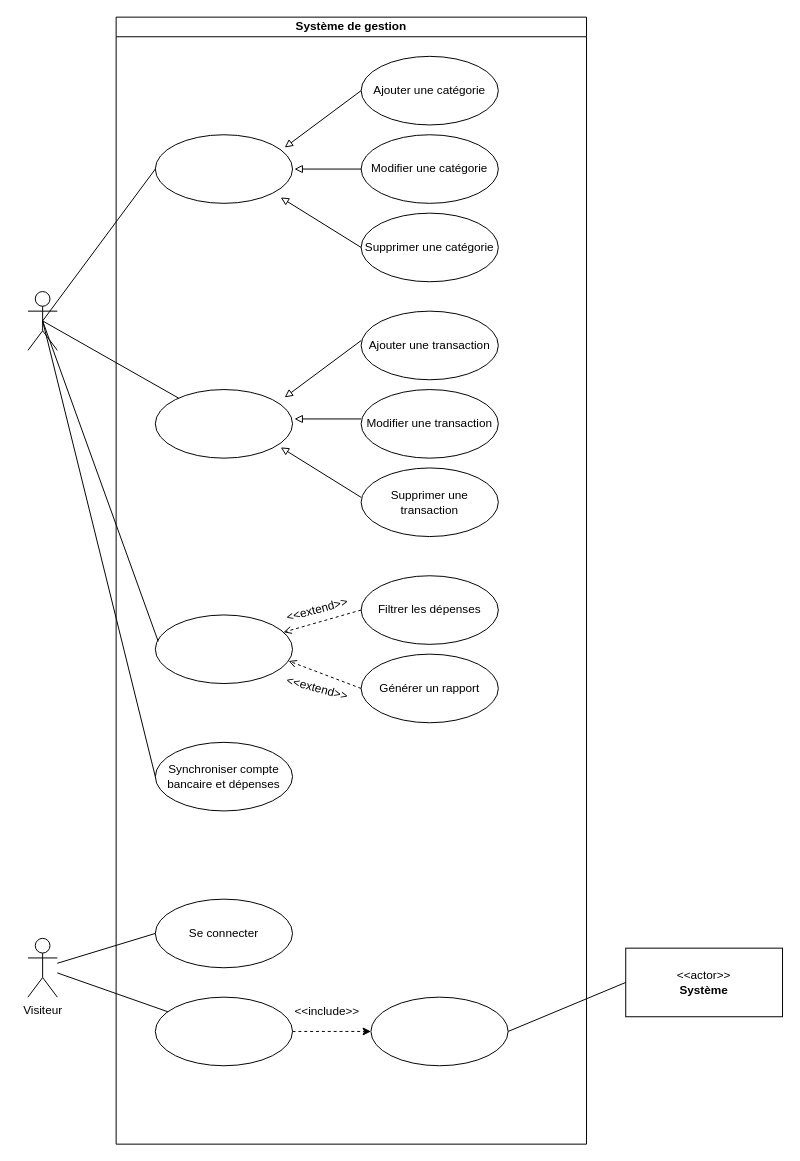
The diagram is 800 pixels wide and 1161 high, and some of its shapes have lost their labels. The centre of each missing label's shape, as x and y in pixels:
Créer un compte: pixel 223 1031
Gérer les catégories: pixel 223 168
Gérer les transactions: pixel 223 423
Utilisateur: pixel 42 320
Valider adresse e-mail: pixel 439 1031
Visualiser les dépenses: pixel 223 649
